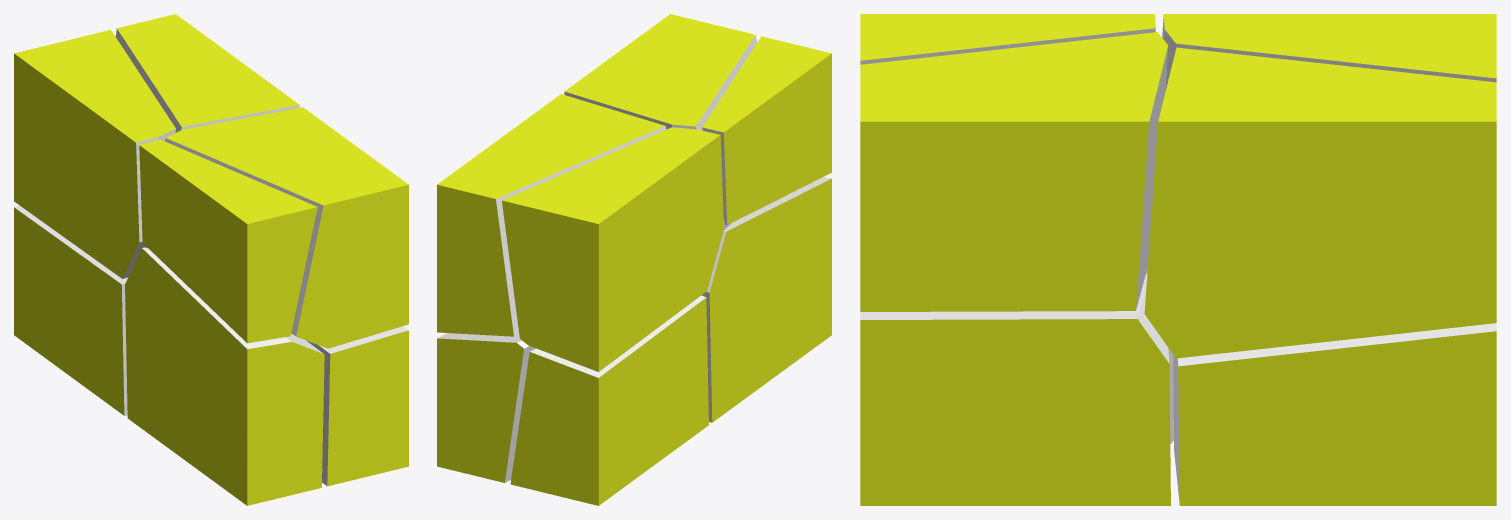
Rendered from Structure_Tower_Knight_Human_02_Destroyed_debris_cells_main_structure_02.fbx.
3 renders of one model, left to right at view 1: azimuth 30°, elevation 25°; view 2: azimuth 150°, elevation 25°; view 3: azimuth 270°, elevation 25°, orthographic. The views are drawn at different scales.
Visible parts, largest first — view 1: Structure_Tower_Knight_Human_02.013_cell, Structure_Tower_Knight_Human_02.013_cell.005, Structure_Tower_Knight_Human_02.013_cell.003, Structure_Tower_Knight_Human_02.013_cell.001, Structure_Tower_Knight_Human_02.013_cell.002, Structure_Tower_Knight_Human_02.013_cell.004, Structure_Tower_Knight_Human_02.013_cell.007; view 2: Structure_Tower_Knight_Human_02.013_cell.003, Structure_Tower_Knight_Human_02.013_cell.002, Structure_Tower_Knight_Human_02.013_cell, Structure_Tower_Knight_Human_02.013_cell.007, Structure_Tower_Knight_Human_02.013_cell.001, Structure_Tower_Knight_Human_02.013_cell.005, Structure_Tower_Knight_Human_02.013_cell.006; view 3: Structure_Tower_Knight_Human_02.013_cell.007, Structure_Tower_Knight_Human_02.013_cell.005, Structure_Tower_Knight_Human_02.013_cell.004, Structure_Tower_Knight_Human_02.013_cell.006, Structure_Tower_Knight_Human_02.013_cell.003, Structure_Tower_Knight_Human_02.013_cell.001.
Part boxes in pixels (x1,y1,x2,y2): Structure_Tower_Knight_Human_02.013_cell: [125, 247, 324, 505]; Structure_Tower_Knight_Human_02.013_cell.005: [165, 107, 408, 348]; Structure_Tower_Knight_Human_02.013_cell.003: [14, 30, 175, 278]; Structure_Tower_Knight_Human_02.013_cell.001: [139, 139, 317, 343]; Structure_Tower_Knight_Human_02.013_cell.002: [14, 205, 127, 415]; Structure_Tower_Knight_Human_02.013_cell.004: [306, 326, 408, 486]; Structure_Tower_Knight_Human_02.013_cell.007: [115, 14, 299, 132]; Structure_Tower_Knight_Human_02.013_cell.003: [502, 127, 723, 371]; Structure_Tower_Knight_Human_02.013_cell.002: [510, 295, 708, 505]; Structure_Tower_Knight_Human_02.013_cell: [702, 177, 831, 422]; Structure_Tower_Knight_Human_02.013_cell.007: [437, 94, 666, 336]; Structure_Tower_Knight_Human_02.013_cell.001: [702, 36, 831, 225]; Structure_Tower_Knight_Human_02.013_cell.005: [564, 14, 757, 220]; Structure_Tower_Knight_Human_02.013_cell.006: [437, 333, 535, 482]; Structure_Tower_Knight_Human_02.013_cell.007: [1144, 47, 1496, 358]; Structure_Tower_Knight_Human_02.013_cell.005: [860, 32, 1168, 311]; Structure_Tower_Knight_Human_02.013_cell.004: [860, 273, 1170, 505]; Structure_Tower_Knight_Human_02.013_cell.006: [1173, 323, 1496, 505]; Structure_Tower_Knight_Human_02.013_cell.003: [1162, 14, 1496, 90]; Structure_Tower_Knight_Human_02.013_cell.001: [860, 14, 1155, 64].
Size of the model in its own units: 180 by 300 by 450.
